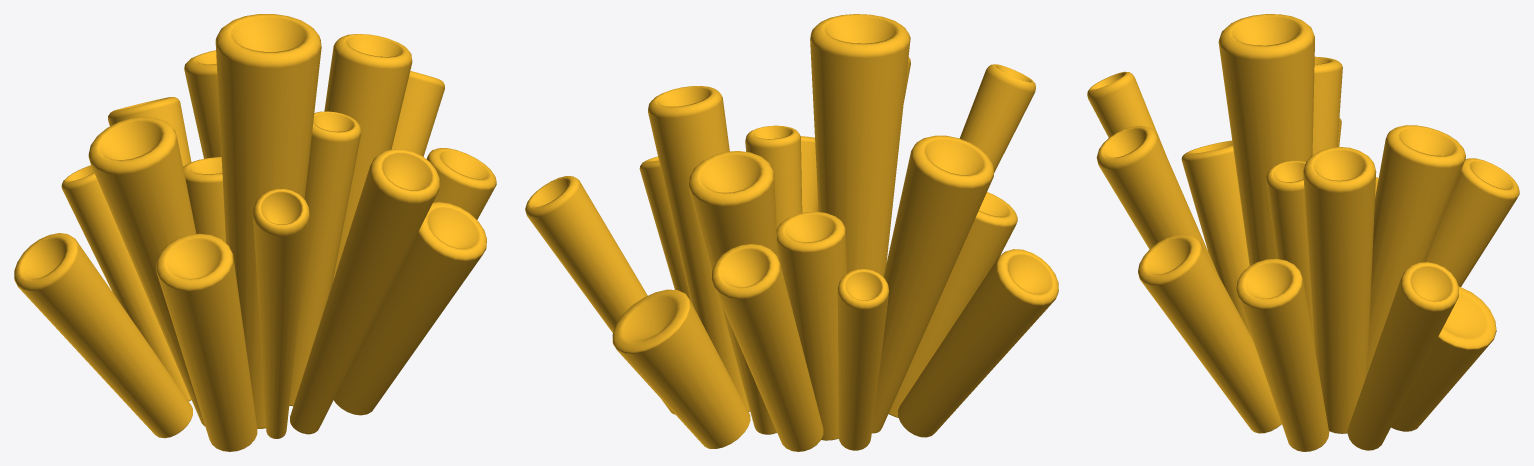
File: coral_yellow.glb
The picture shows the model from 3 angles, left to right: view 1: azimuth 30°, elevation 25°; view 2: azimuth 150°, elevation 25°; view 3: azimuth 270°, elevation 25°; orthographic projection. The views are drawn at different scales.
Parts seen in each view (by area): view 1: pCylinder35; view 2: pCylinder35; view 3: pCylinder35.
Part boxes in pixels (bbox=[...]): pCylinder35: bbox=[14, 14, 496, 451]; pCylinder35: bbox=[525, 14, 1058, 451]; pCylinder35: bbox=[1087, 14, 1519, 451].
Size of the model in its own units: 0.1846 by 0.1461 by 0.1567.
